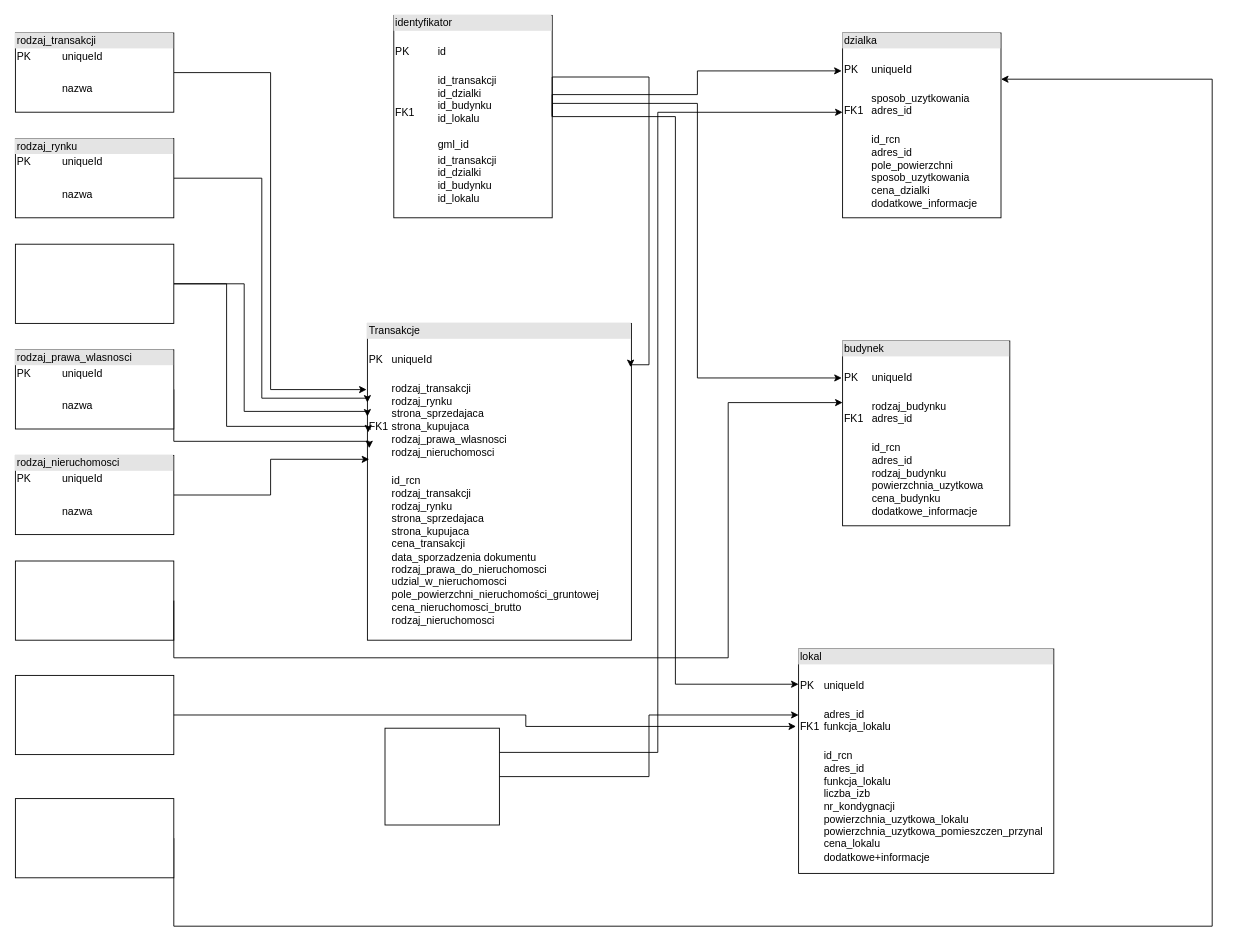
Image size: 1235x949. Some labels were removed from this diagram. Each missing label, with the box of its shape:
adres PK uniqueId miejscowosc ulica nr_porzadkowy: (384, 727, 499, 825)
funkcja_lokalu PK uniqueId nazwa: (15, 675, 174, 755)
rodzaj_budynku PK uniqueId nazwa: (15, 560, 174, 640)
sposob_uzytkowania PK uniqueId nazwa: (15, 798, 174, 878)
strona_transakcji PK uniqueId nazwa: (15, 243, 174, 323)
